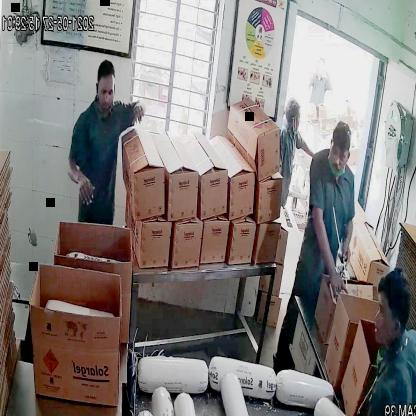no_goggles: (93, 80, 119, 102), (328, 146, 353, 166)
